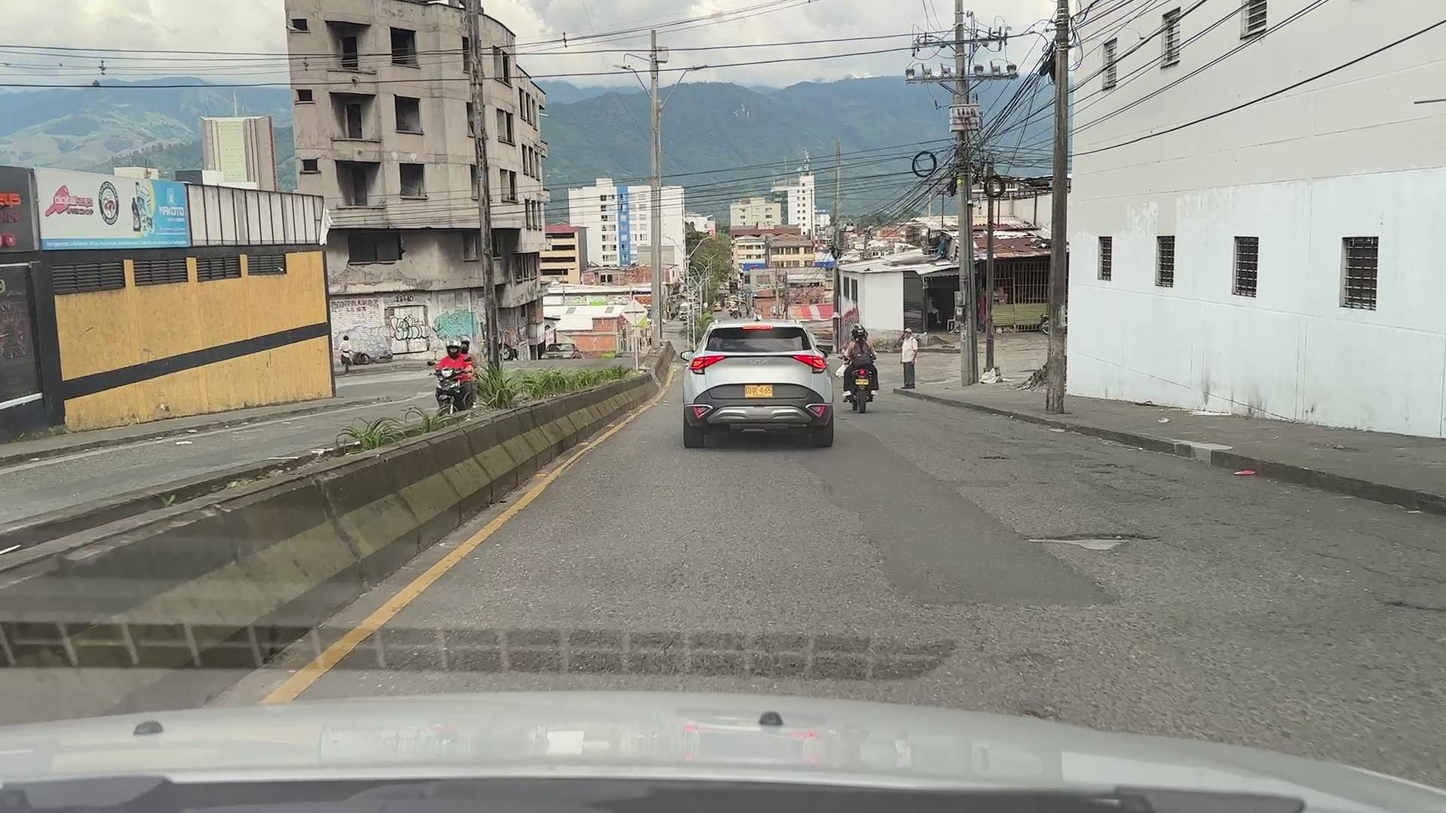bache: (1026, 533, 1157, 551)
